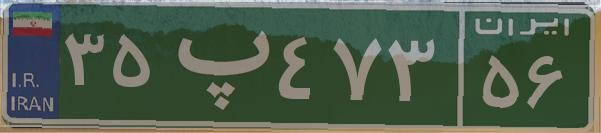3: (385, 28, 445, 110), (57, 26, 110, 107)
4: (273, 28, 330, 110)
5: (475, 38, 525, 113), (110, 28, 158, 105)
6: (525, 38, 570, 115)
7: (330, 28, 385, 110)
پ: (158, 15, 273, 115)
